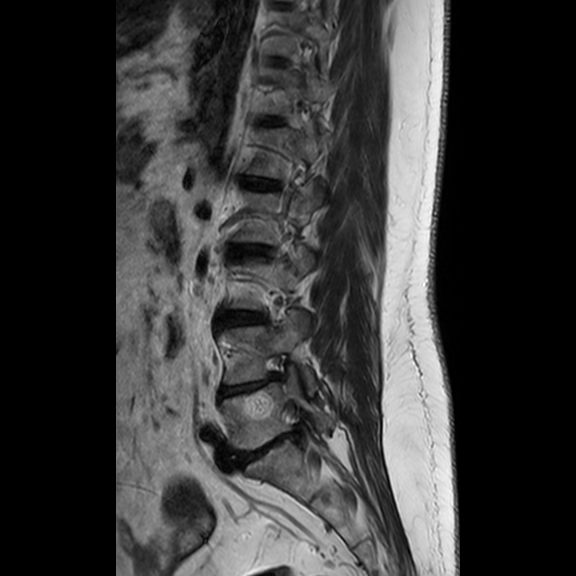LFS1: (255, 343, 299, 399)
